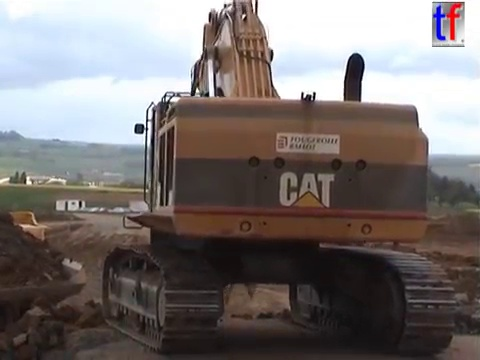excavator: (95, 1, 460, 359)
truck: (1, 208, 90, 349)
